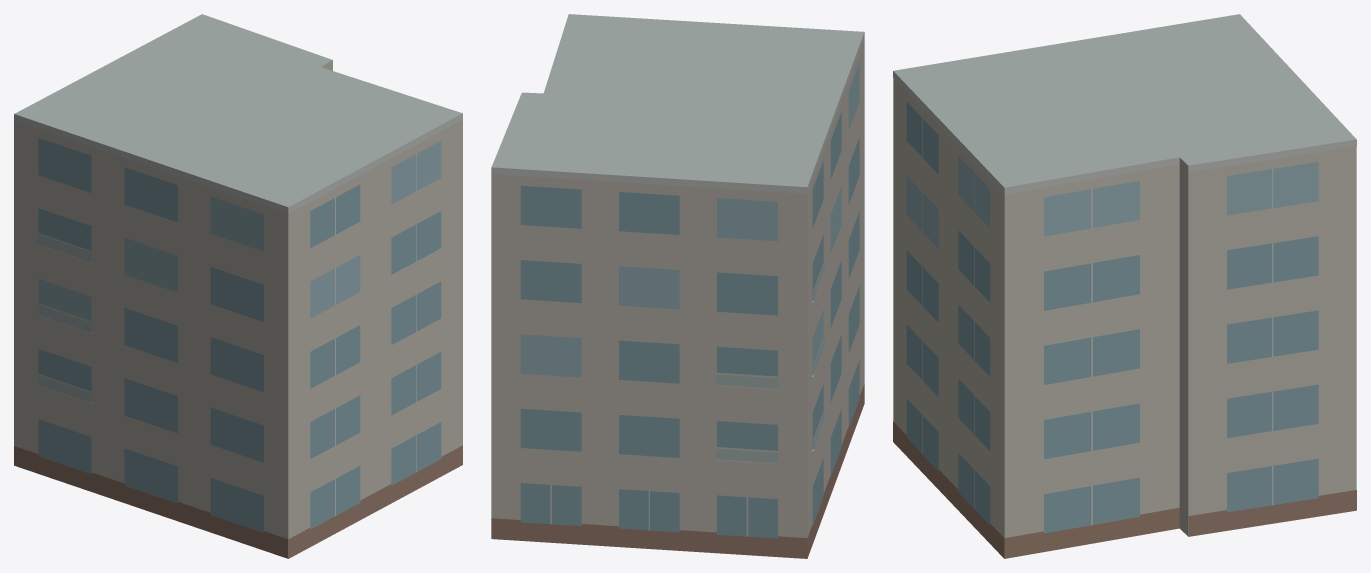
Rendered from survey-upis-33042476.glb.
3 renders of one model, left to right at view 1: azimuth 30°, elevation 25°; view 2: azimuth 150°, elevation 25°; view 3: azimuth 270°, elevation 25°, orthographic. The views are drawn at different scales.
Parts seen in each view (by area): view 1: survey-upis-33042476.tmp; view 2: survey-upis-33042476.tmp; view 3: survey-upis-33042476.tmp.
Part boxes in pixels (left/top/right/bottom): survey-upis-33042476.tmp: left=14, top=14, right=462, bottom=558; survey-upis-33042476.tmp: left=491, top=14, right=864, bottom=558; survey-upis-33042476.tmp: left=893, top=14, right=1356, bottom=558.
Bounding box in the file's own units: 13.26 × 13.2 × 14.96.
